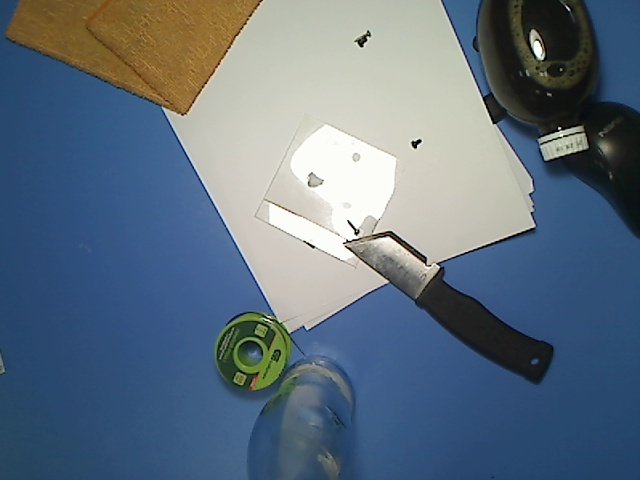plast_bottle: (474, 1, 603, 167)
